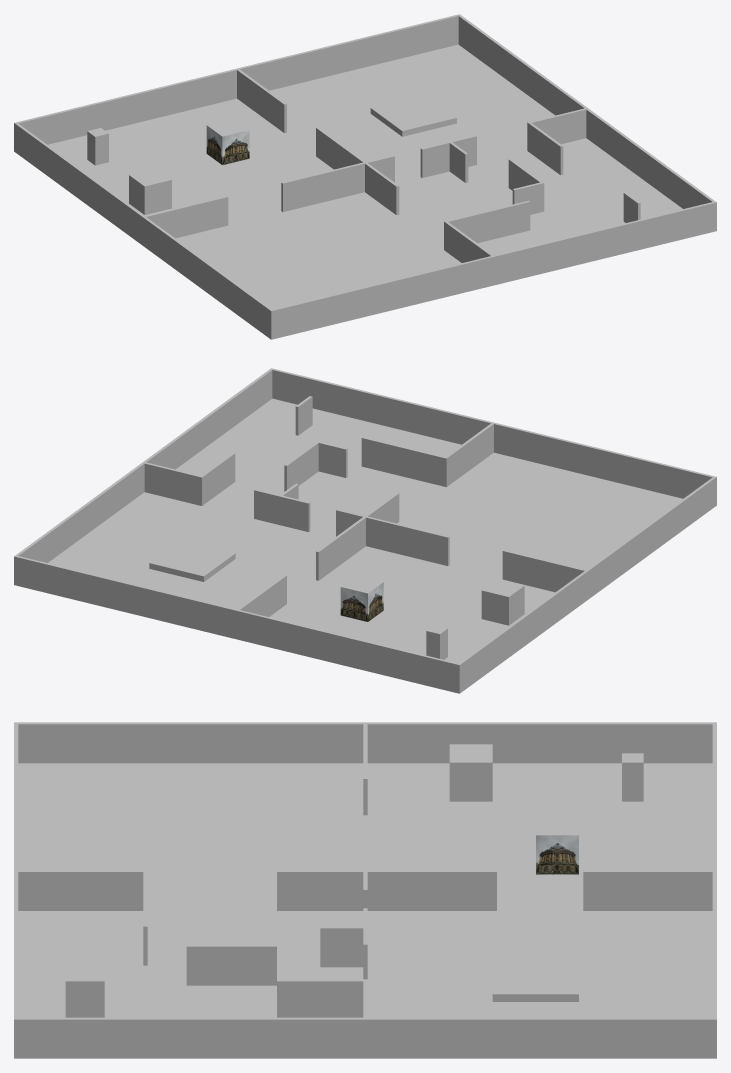
Rendered from arena_flat.dae.
3 views of the same model, one above another, from view 1: azimuth 30°, elevation 25°; view 2: azimuth 150°, elevation 25°; view 3: azimuth 270°, elevation 25° (orthographic). The views are drawn at different scales.
Parts seen in each view (by area): view 1: floor, walls1; view 2: walls1, floor; view 3: floor, walls1.
Boxes of the visible parts, x1,y1,x2,y2 form: floor: [48, 44, 682, 309]; walls1: [14, 14, 716, 339]; walls1: [14, 368, 716, 693]; floor: [48, 398, 682, 663]; floor: [18, 763, 712, 1017]; walls1: [14, 722, 716, 1058].
Bounding box in the file's own units: 16.3 × 16.3 × 1.
